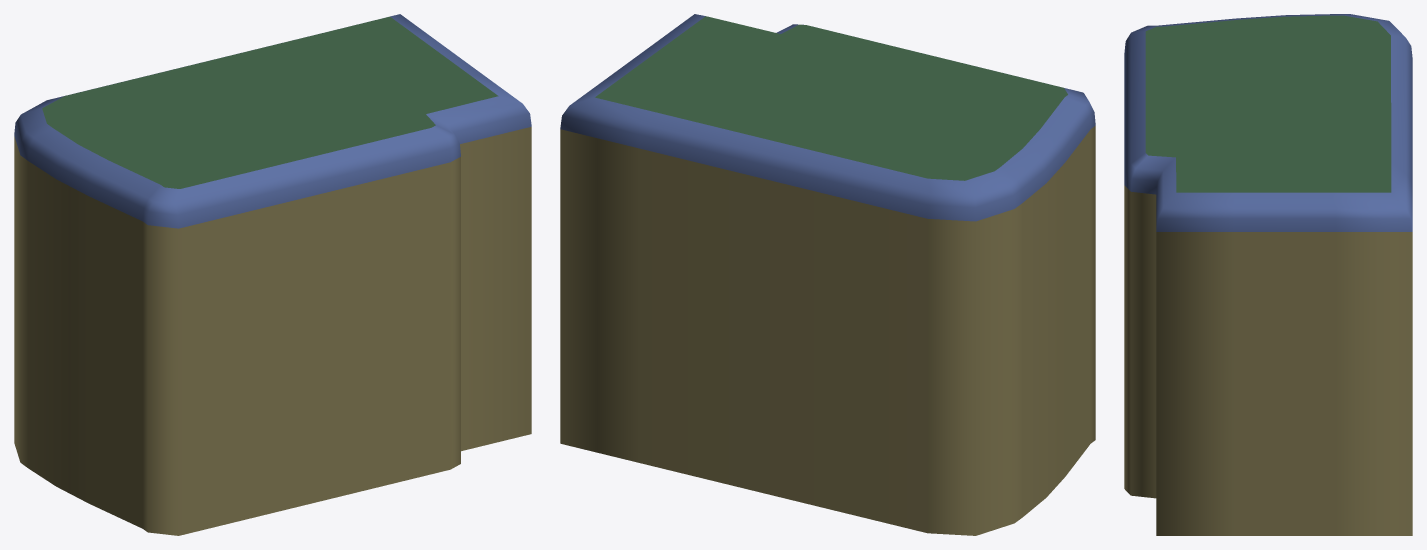
File: Segunda_plat.fbx
3 renders of one model, left to right at view 1: azimuth 30°, elevation 25°; view 2: azimuth 150°, elevation 25°; view 3: azimuth 270°, elevation 25°, orthographic. The views are drawn at different scales.
Visible parts, largest first — view 1: Segunda_plat, Ground6, Wall6; view 2: Segunda_plat, Ground6, Wall6; view 3: Segunda_plat, Ground6, Wall6.
Part boxes in pixels (x1,y1,x2,y2): Segunda_plat: (14,127,531,535); Ground6: (42,16,498,188); Wall6: (14,14,531,228); Segunda_plat: (560,126,1095,535); Ground6: (595,16,1067,180); Wall6: (560,14,1095,221); Segunda_plat: (1124,185,1412,535); Ground6: (1145,15,1391,192); Wall6: (1124,14,1412,231).
Size of the model in its own units: 6919 by 5380 by 4231.
